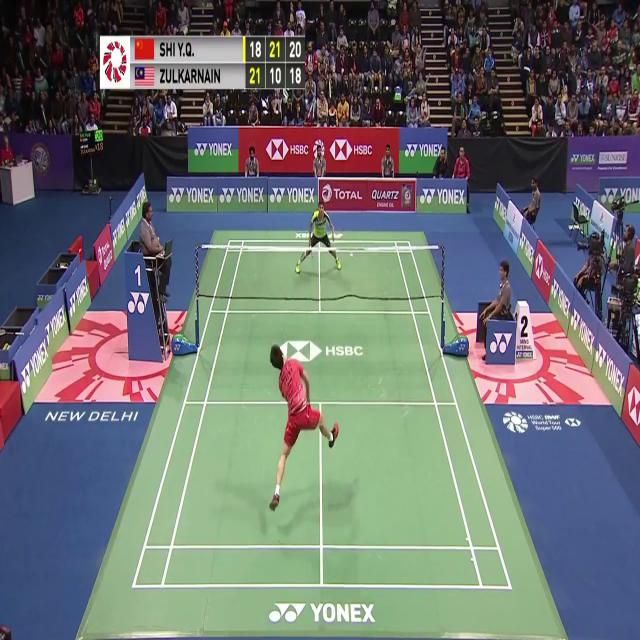Shuttlecock: (348, 250, 354, 262)
